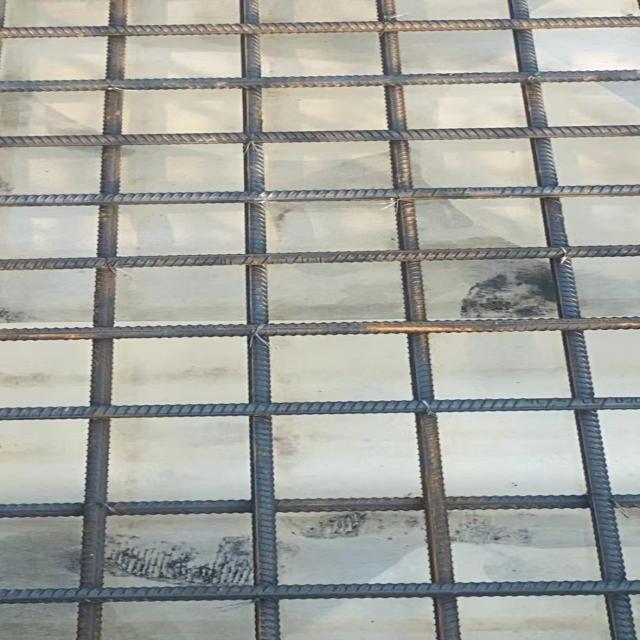ribbed bar: (504, 0, 636, 639), (375, 0, 462, 639), (73, 0, 127, 639), (239, 0, 281, 638), (0, 314, 638, 342), (0, 244, 638, 271), (0, 394, 638, 421), (0, 578, 638, 604), (0, 123, 638, 148), (0, 493, 638, 518), (0, 68, 638, 92), (0, 182, 638, 206), (0, 16, 638, 38)
